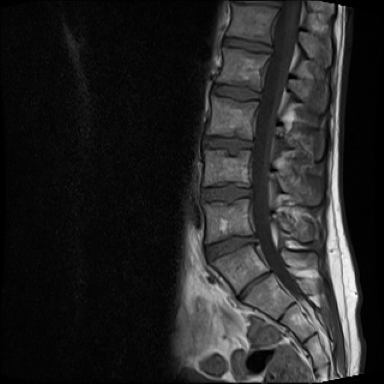Degenerative Disc Disease DDD: (232, 270, 280, 308)
Lumbar Disc Bulge LDB: (200, 230, 267, 268)
Normal IVD: (199, 182, 260, 208), (209, 81, 265, 105), (202, 132, 260, 155)
Spinal Stenosis SS: (247, 230, 267, 252), (264, 42, 281, 61)
Thoracic Disc Bulge TDB: (221, 35, 279, 57)
